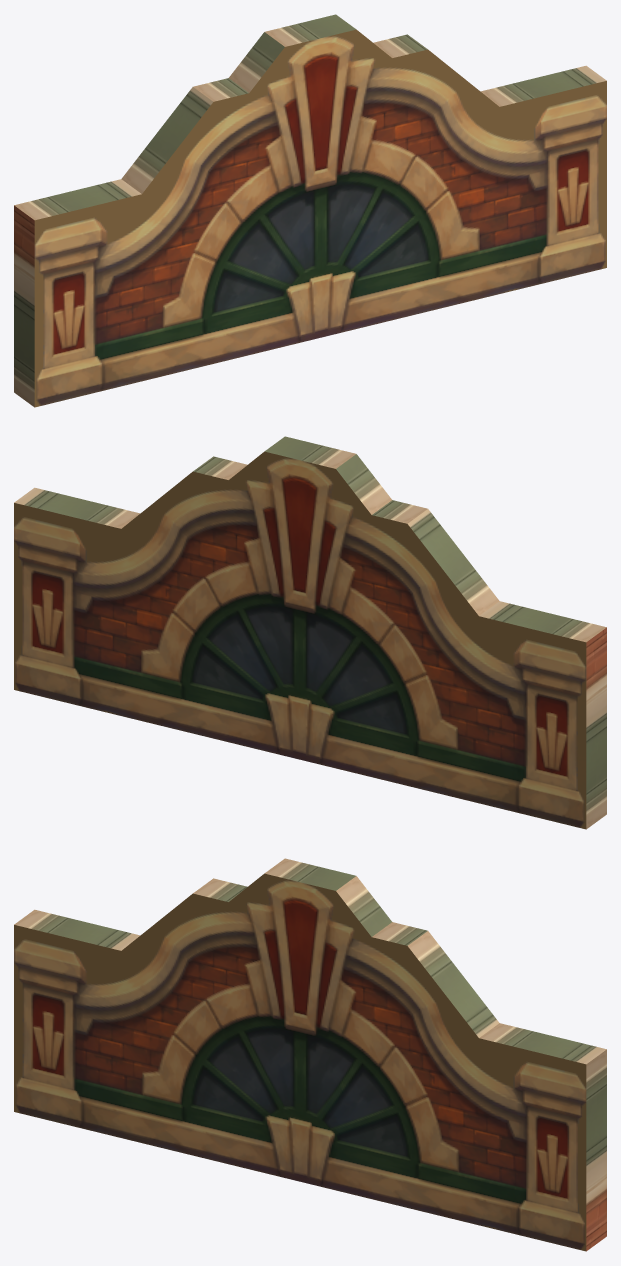
The model's file is BRK_CrestA.fbx.
The picture shows the model from 3 angles, top to bottom: view 1: azimuth 30°, elevation 25°; view 2: azimuth 150°, elevation 25°; view 3: azimuth 330°, elevation 25°; orthographic projection.
Visible parts, largest first — view 1: BRK_CrestA; view 2: BRK_CrestA; view 3: BRK_CrestA.
Part boxes in pixels (<box>): BRK_CrestA: <box>14,14,606,407</box>; BRK_CrestA: <box>14,436,606,829</box>; BRK_CrestA: <box>14,858,606,1251</box>.
Bounding box in the file's own units: 4 × 0.25 × 2.
Materials: 1 (1 with a texture image).
